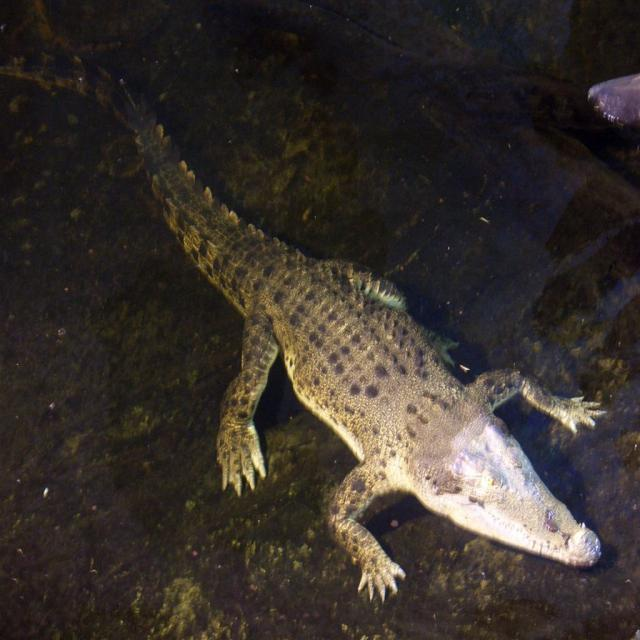crocodile: (88, 69, 630, 639)
